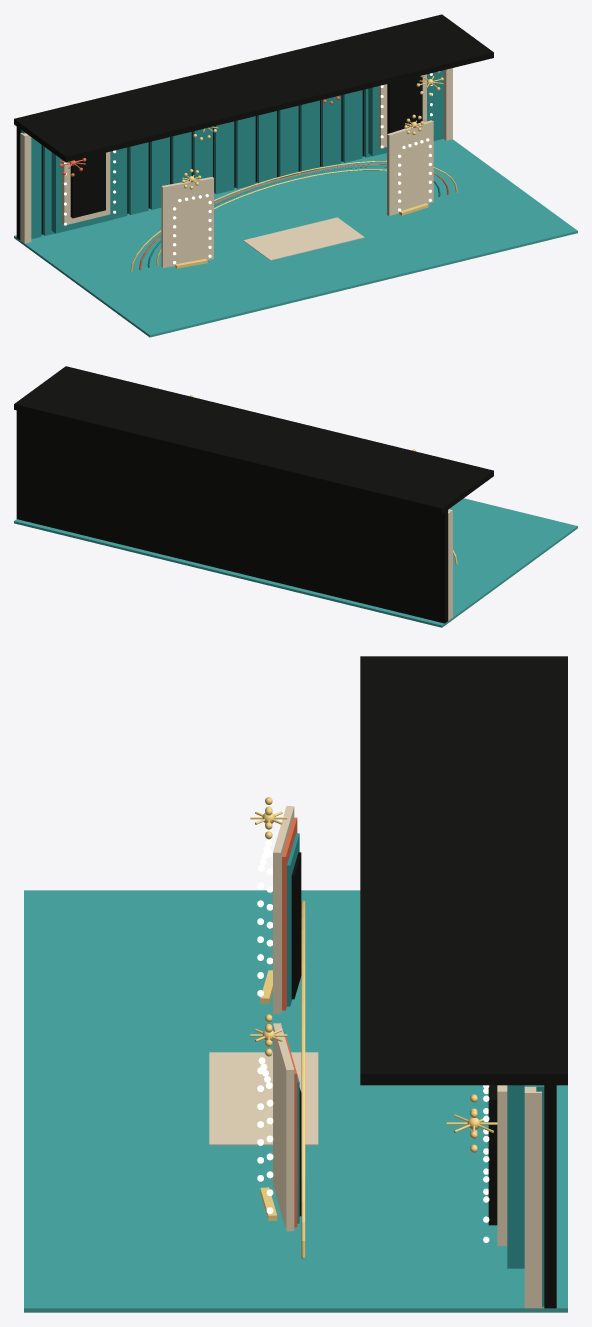
The model's file is 2fer-set.glb.
The picture shows the model from 3 angles, top to bottom: view 1: azimuth 30°, elevation 25°; view 2: azimuth 150°, elevation 25°; view 3: azimuth 270°, elevation 25°; orthographic projection. The views are drawn at different scales.
Visible parts, largest first — view 1: wide glossy floor, black ceiling canopy, left_stage_door_cream_backing, right_stage_door_cream_backing, subtle_center_stage_disc, rear black void, left_side_marquee_black_inner_panel, right_side_marquee_black_inner_panel, vertical teal wall panel.005, vertical teal wall panel.015, vertical teal wall panel.010, vertical teal wall panel.013 (+20 smaller); view 2: rear black void, black ceiling canopy, wide glossy floor, left cream border wall; view 3: wide glossy floor, black ceiling canopy, subtle_center_stage_disc, right cream border wall, right_stage_door_cream_backing, right_side_marquee_outer_teal_block, rear black void, left_stage_door_cream_backing, curved stage trim, right_side_marquee_cream_insert, left_stage_door_black_walkable_opening, right_side_marquee_black_inner_panel (+2 smaller).
Boxes of the visible parts, x1,y1,x2,y2 form: wide glossy floor: [14, 139, 577, 337]; black ceiling canopy: [14, 14, 493, 162]; left_stage_door_cream_backing: [161, 177, 213, 267]; right_stage_door_cream_backing: [387, 120, 433, 215]; subtle_center_stage_disc: [243, 217, 364, 260]; rear black void: [16, 89, 363, 239]; left_side_marquee_black_inner_panel: [70, 152, 105, 218]; right_side_marquee_black_inner_panel: [387, 76, 422, 133]; vertical teal wall panel.005: [128, 142, 148, 214]; vertical teal wall panel.015: [342, 90, 362, 162]; vertical teal wall panel.010: [235, 116, 255, 188]; vertical teal wall panel.013: [299, 100, 319, 173]; rear black void: [16, 410, 447, 623]; black ceiling canopy: [14, 366, 493, 513]; wide glossy floor: [14, 498, 577, 627]; left cream border wall: [448, 509, 452, 620]; wide glossy floor: [24, 890, 567, 1312]; black ceiling canopy: [360, 656, 567, 1085]; subtle_center_stage_disc: [209, 1052, 318, 1145]; right cream border wall: [524, 1087, 541, 1308]; right_stage_door_cream_backing: [273, 1023, 294, 1231]; right_side_marquee_outer_teal_block: [507, 1085, 524, 1268]; rear black void: [544, 1075, 556, 1308]; left_stage_door_cream_backing: [273, 806, 294, 1013]; curved stage trim: [301, 900, 305, 1258]; right_side_marquee_cream_insert: [497, 1085, 507, 1245]; left_stage_door_black_walkable_opening: [291, 852, 301, 999]; right_side_marquee_black_inner_panel: [488, 1085, 497, 1225].
Bounding box in the file's own units: 20 × 7.79 × 11.
